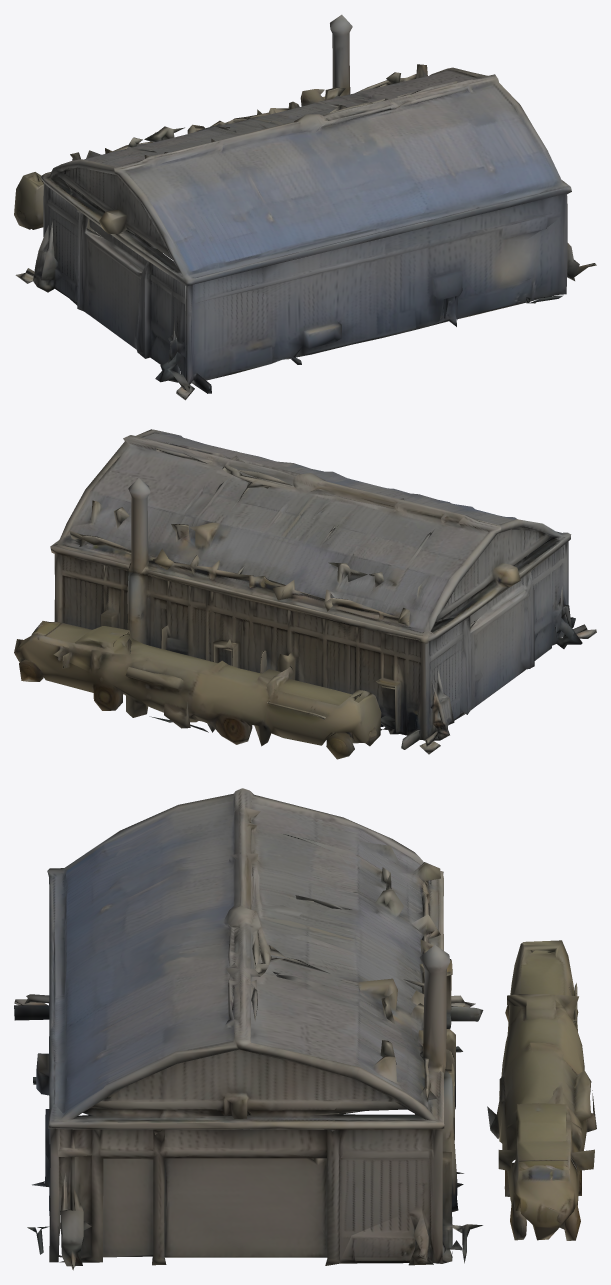
The model's file is tank_factory.glb.
3 renders of one model, top to bottom at view 1: azimuth 30°, elevation 25°; view 2: azimuth 150°, elevation 25°; view 3: azimuth 270°, elevation 25°, orthographic. The views are drawn at different scales.
Visible parts, largest first — view 1: body; view 2: body; view 3: body.
Boxes of the visible parts, x1,y1,x2,y2 form: body: (14,14,596,400); body: (14,429,596,759); body: (14,788,596,1270).
Bounding box in the file's own units: 15.6 × 6.66 × 13.25.
1 material, 1 textured.
